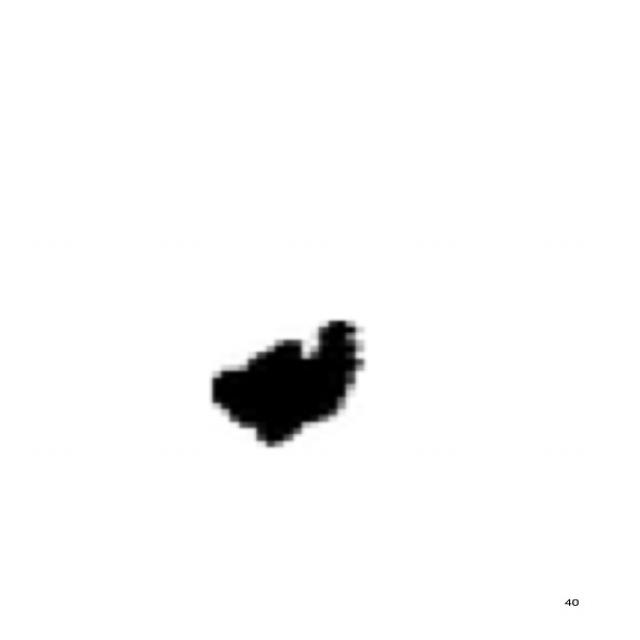0 -zero-: (191, 310, 373, 453)
